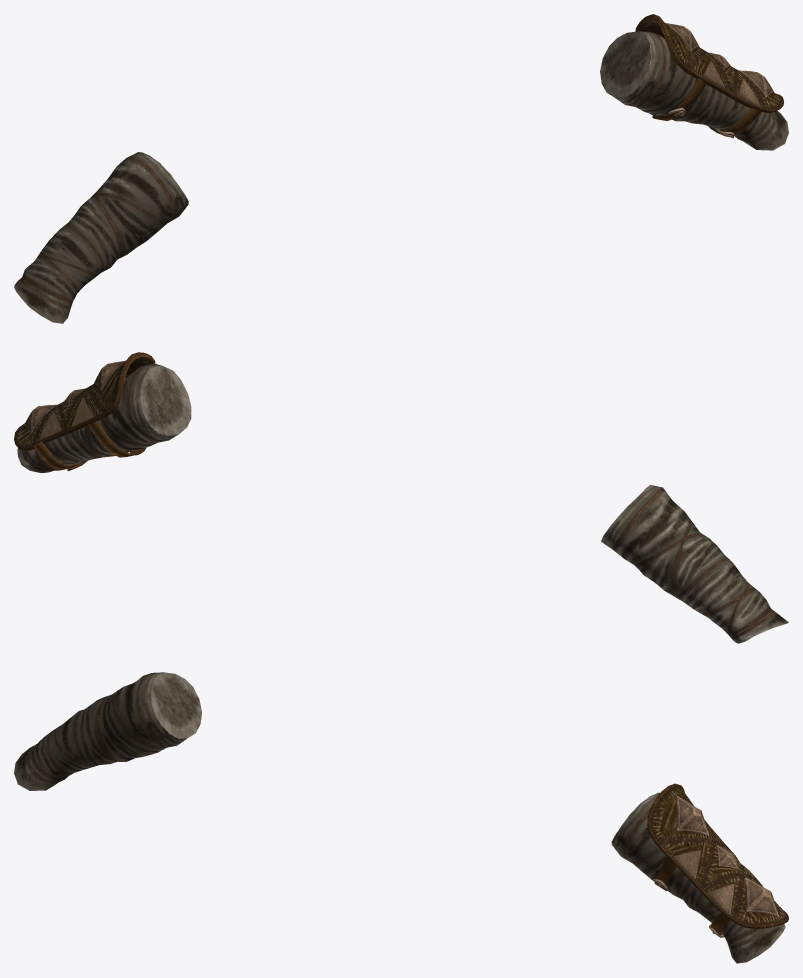
The model's file is dunland_caerdh_bracer_medium_a.fbx.
3 renders of one model, top to bottom at view 1: azimuth 30°, elevation 25°; view 2: azimuth 150°, elevation 25°; view 3: azimuth 330°, elevation 25°, orthographic.
Visible parts, largest first — view 1: dunland_caerdh_bracer_medium_a, dunland_caerdh_bracer_medium_a.metal; view 2: dunland_caerdh_bracer_medium_a, dunland_caerdh_bracer_medium_a.metal; view 3: dunland_caerdh_bracer_medium_a, dunland_caerdh_bracer_medium_a.metal.
Boxes of the visible parts, x1,y1,x2,y2 form: dunland_caerdh_bracer_medium_a: [14, 31, 788, 323]; dunland_caerdh_bracer_medium_a.metal: [635, 14, 783, 138]; dunland_caerdh_bracer_medium_a: [17, 363, 788, 643]; dunland_caerdh_bracer_medium_a.metal: [14, 352, 155, 470]; dunland_caerdh_bracer_medium_a: [14, 672, 785, 963]; dunland_caerdh_bracer_medium_a.metal: [647, 783, 788, 937].
Bounding box in the file's own units: 1.44 × 0.1479 × 0.2512.
1 material, 1 textured.
